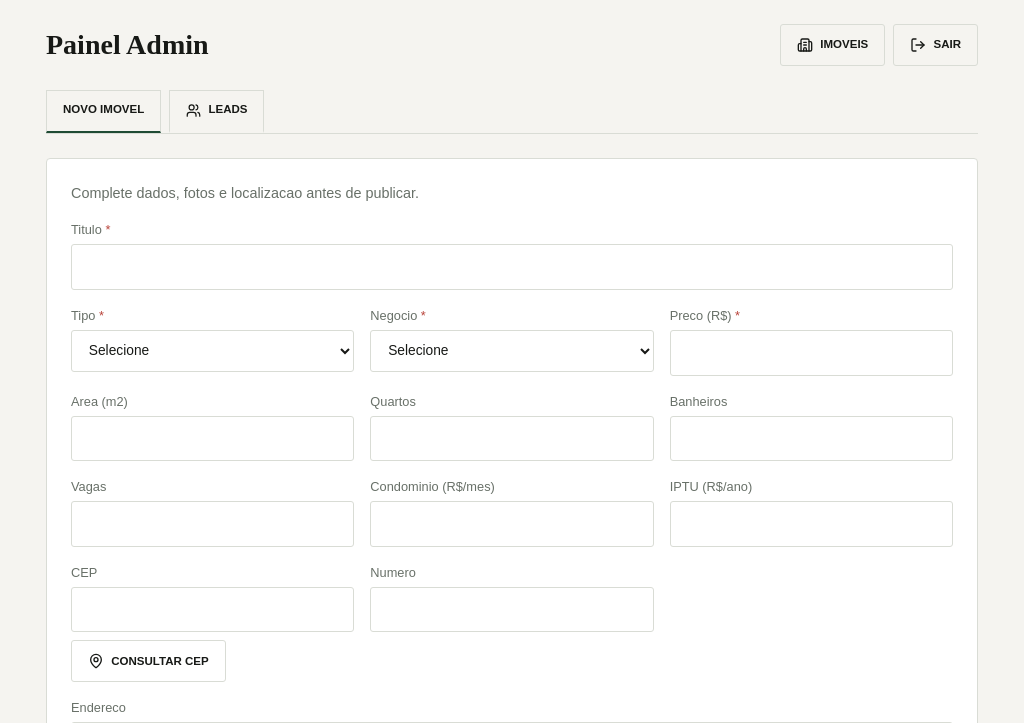
Scenario: AdminPage › trata consulta de CEP vazia, sem coordenadas e com falha externa
Click the button "Consultar CEP".
click(148, 662)  # box [71,640,226,682]
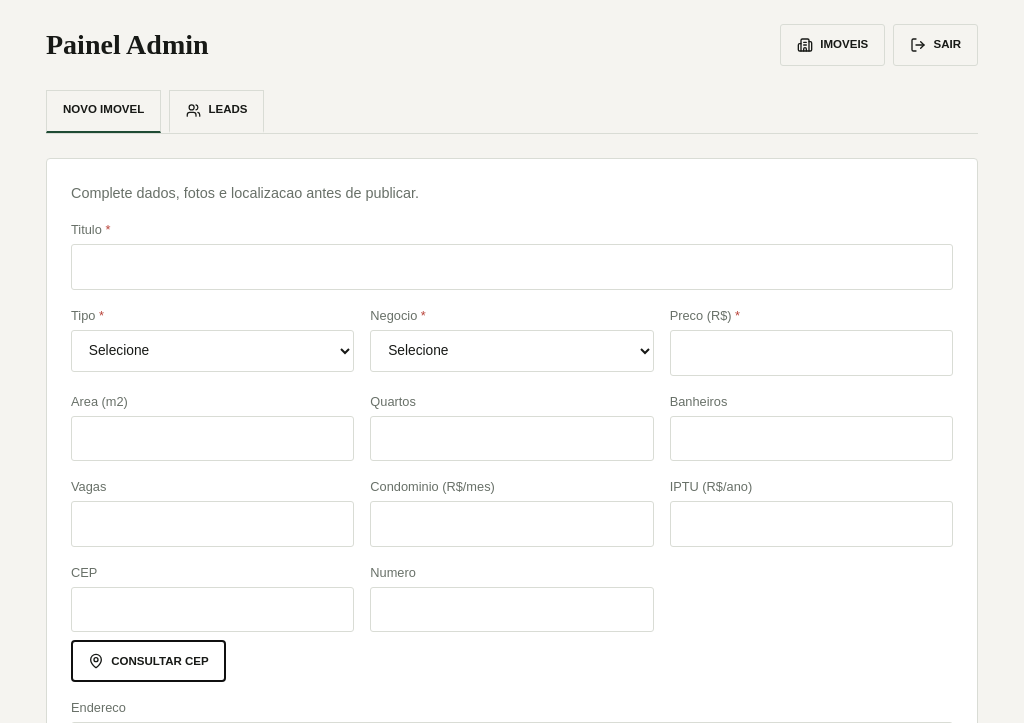
Type "01001000" into the field labelled "CEP".
click(213, 610); type("01001000")  # box [71,587,354,632]
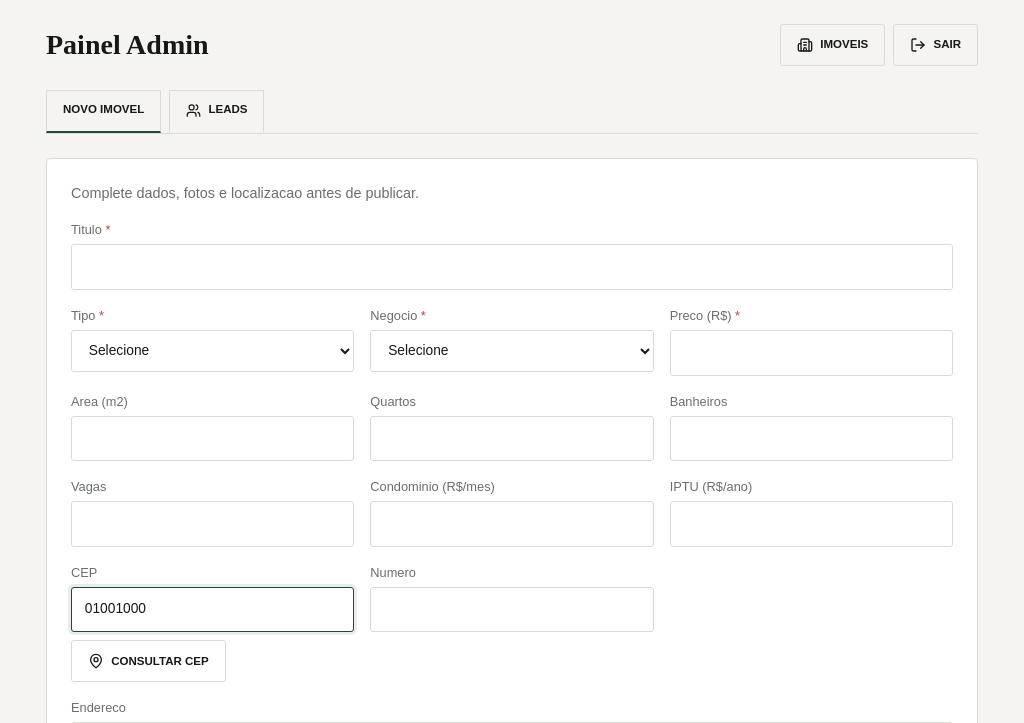
Click the button "Consultar CEP".
click(148, 662)  # box [71,640,226,682]
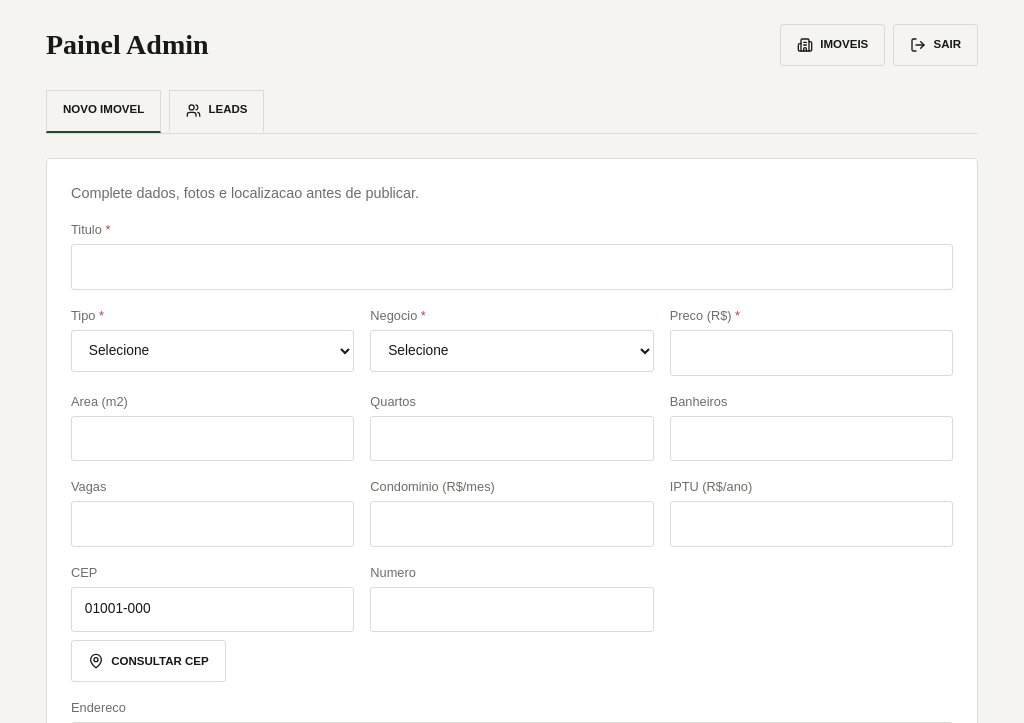
Click the button "Consultar CEP".
click(148, 662)  # box [71,640,226,682]
(page scrolled)
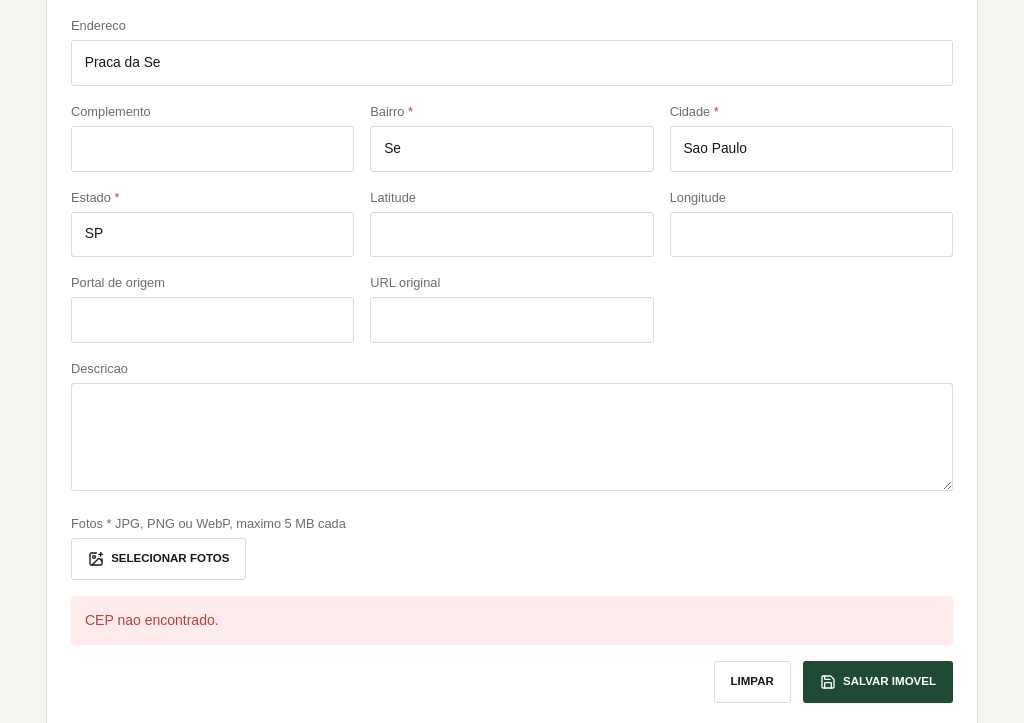
Check: the text "CEP nao encontrado." is shown, box [71,596,953,644]
